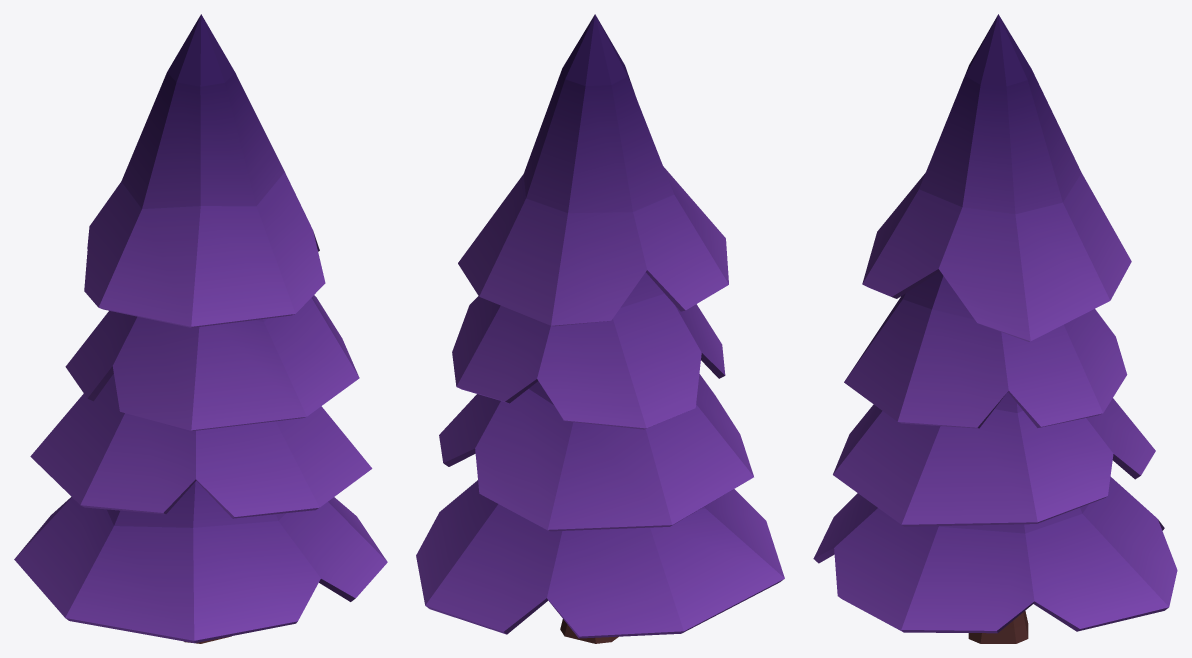
Rendered from MagicPine5.fbx.
3 renders of one model, left to right at view 1: azimuth 30°, elevation 25°; view 2: azimuth 150°, elevation 25°; view 3: azimuth 270°, elevation 25°, orthographic.
Visible parts, largest first — view 1: MagicPine5; view 2: MagicPine5; view 3: MagicPine5.
Part boxes in pixels (x1=…): MagicPine5: x1=14, y1=14, x2=387, y2=643; MagicPine5: x1=416, y1=14, x2=784, y2=643; MagicPine5: x1=813, y1=14, x2=1177, y2=643.
Size of the model in its own units: 503 by 931 by 498.
